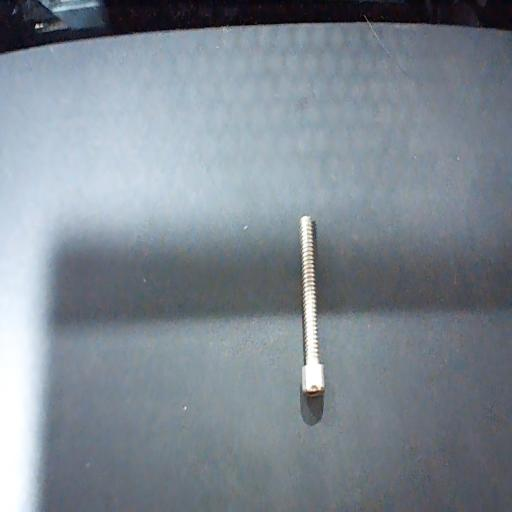screw: (298, 214, 324, 398)
